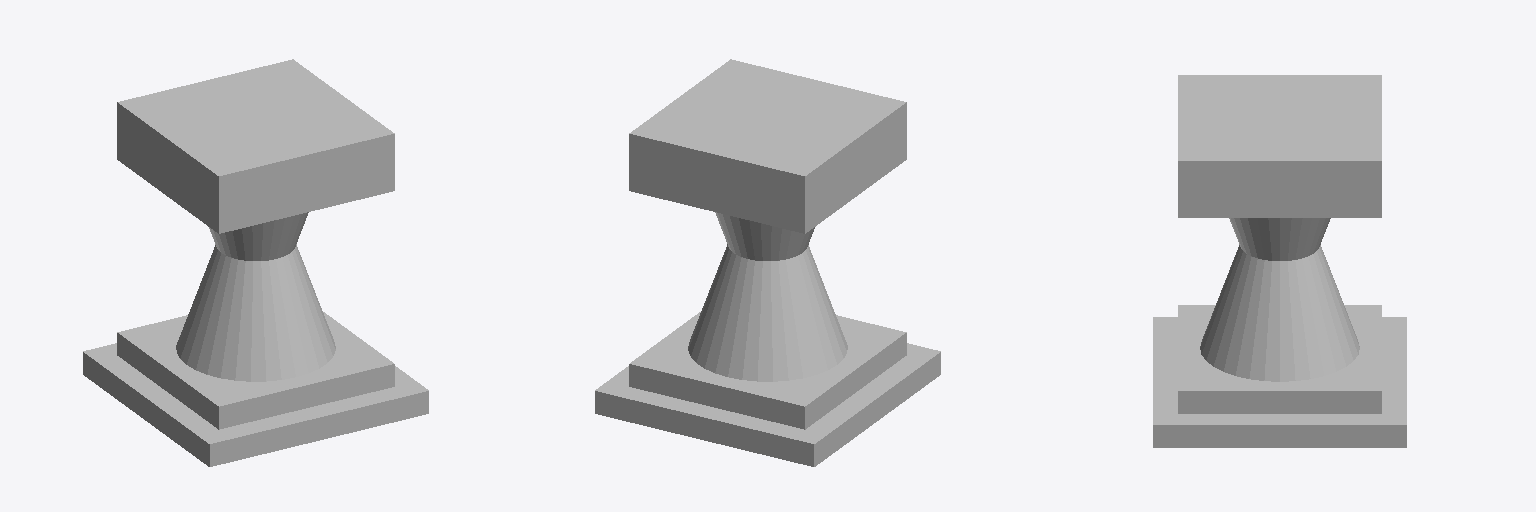
Rendered from tier2tower_model.obj.
3 renders of one model, left to right at view 1: azimuth 30°, elevation 25°; view 2: azimuth 150°, elevation 25°; view 3: azimuth 270°, elevation 25°, orthographic.
Parts seen in each view (by area): view 1: Cube.002_Cube.005, Cone.001, Cube_Cube.003, Cube.001_Cube.004, Cone; view 2: Cube.002_Cube.005, Cone.001, Cube_Cube.003, Cube.001_Cube.004, Cone; view 3: Cube.002_Cube.005, Cone.001, Cube_Cube.003, Cube.001_Cube.004, Cone.
Boxes of the visible parts, x1,y1,x2,y2 form: Cube.002_Cube.005: [117, 59, 394, 233]; Cone.001: [176, 244, 335, 381]; Cube_Cube.003: [83, 343, 428, 466]; Cube.001_Cube.004: [117, 312, 394, 429]; Cone: [167, 80, 344, 260]; Cube.002_Cube.005: [629, 59, 906, 233]; Cone.001: [688, 244, 847, 381]; Cube_Cube.003: [595, 343, 940, 466]; Cube.001_Cube.004: [629, 312, 906, 429]; Cone: [679, 80, 856, 260]; Cube.002_Cube.005: [1178, 75, 1381, 217]; Cone.001: [1200, 245, 1359, 381]; Cube_Cube.003: [1153, 317, 1406, 447]; Cube.001_Cube.004: [1178, 305, 1381, 413]; Cone: [1196, 82, 1355, 260].
Bounding box in the file's own units: 2 × 2.4 × 2.